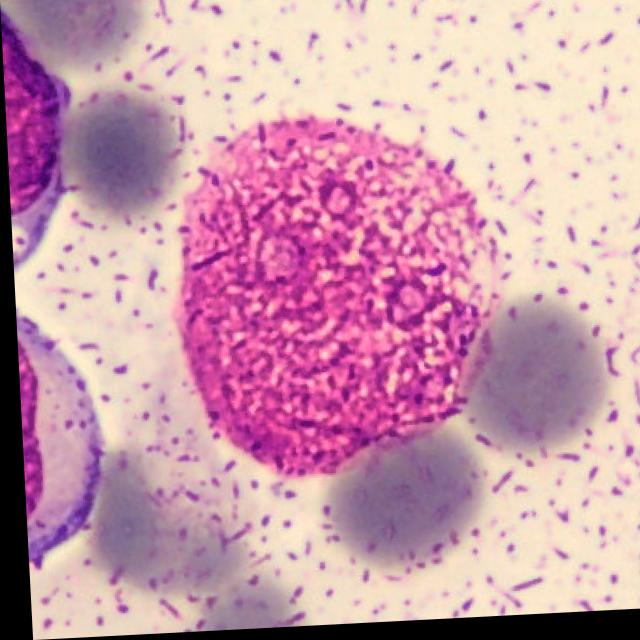Restos celulares: (172, 123, 500, 480)
